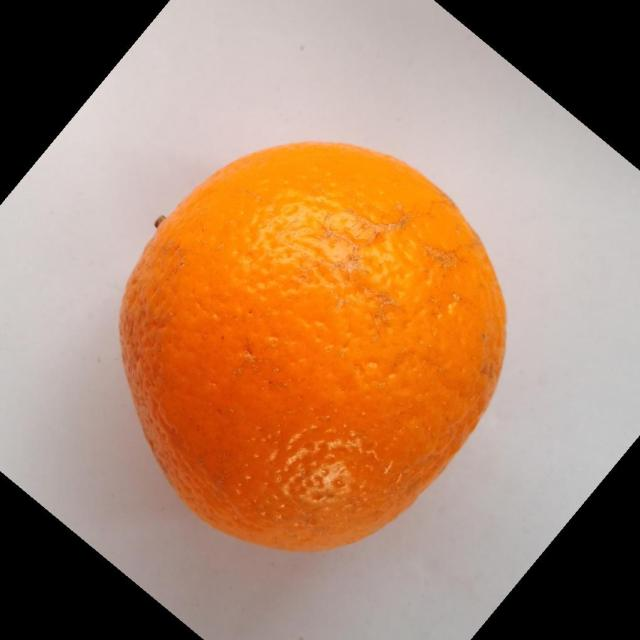fresh orange: (117, 139, 508, 552)
